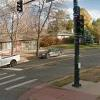Crosswalk: (1, 65, 38, 93)
